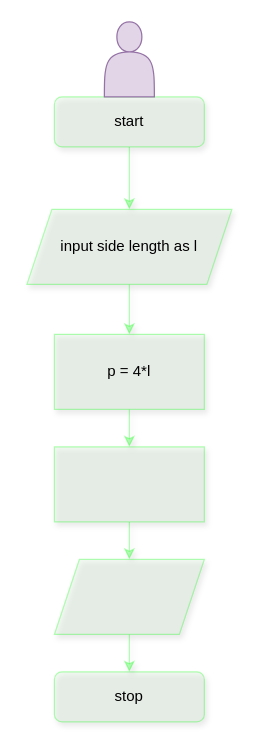
The diagram is 261 pixels wide and 753 high, and some of its shapes have lost their labels. The centre of each missing label's shape, as x and y in pixels:
"a = l**2" goes at point 130,486.
"print a, p" goes at point 130,598.
